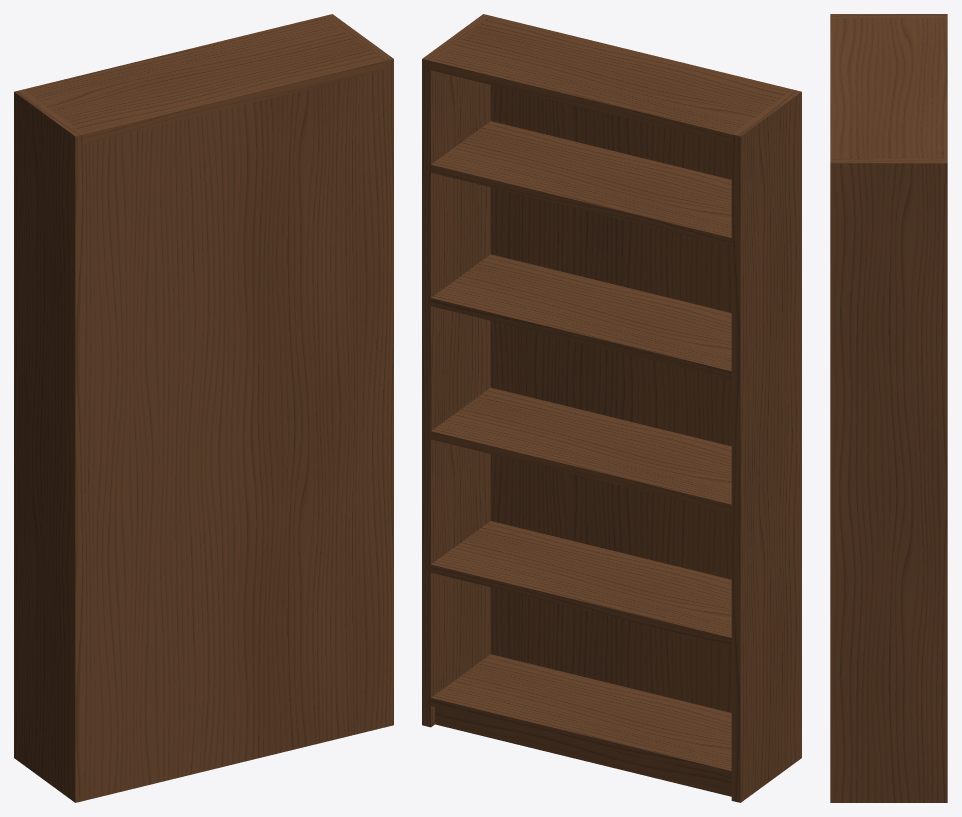
Rendered from X14_DRESS_Bookcase_Oak_090.glb.
The picture shows the model from 3 angles, left to right: view 1: azimuth 30°, elevation 25°; view 2: azimuth 150°, elevation 25°; view 3: azimuth 270°, elevation 25°; orthographic projection. The views are drawn at different scales.
Parts seen in each view (by area): view 1: X14_DRESS_Bookcase_Oak_090_LOD0; view 2: X14_DRESS_Bookcase_Oak_090_LOD0; view 3: X14_DRESS_Bookcase_Oak_090_LOD0.
Boxes of the visible parts, bbox=[...] form: X14_DRESS_Bookcase_Oak_090_LOD0: bbox=[14, 14, 393, 802]; X14_DRESS_Bookcase_Oak_090_LOD0: bbox=[422, 14, 801, 802]; X14_DRESS_Bookcase_Oak_090_LOD0: bbox=[830, 14, 947, 802].
Size of what is drawn, in the model's own units: 0.9 by 1.8 by 0.3.
1 material, 1 textured.
